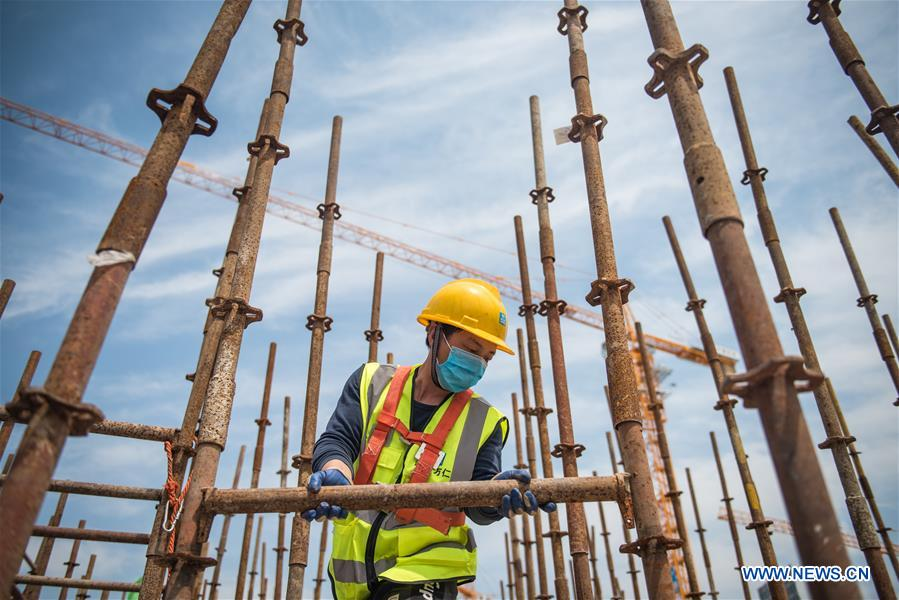With Helmet: (404, 269, 525, 402)
